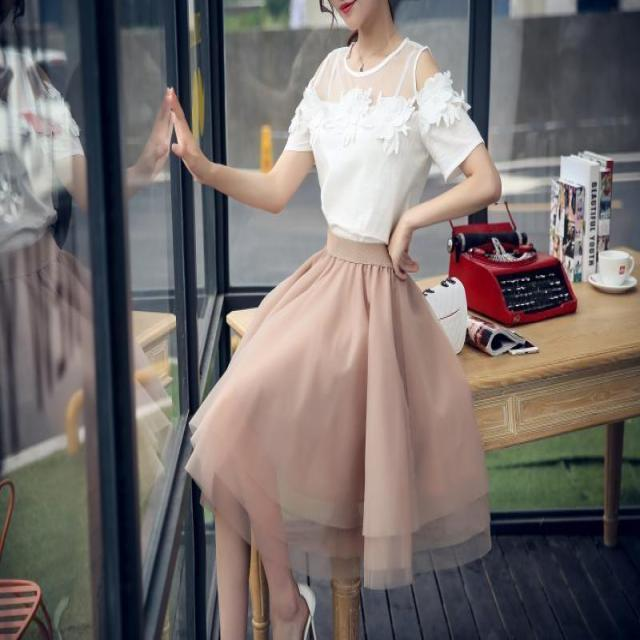short sleeve top: (286, 40, 482, 245)
skirt: (190, 233, 494, 579)
